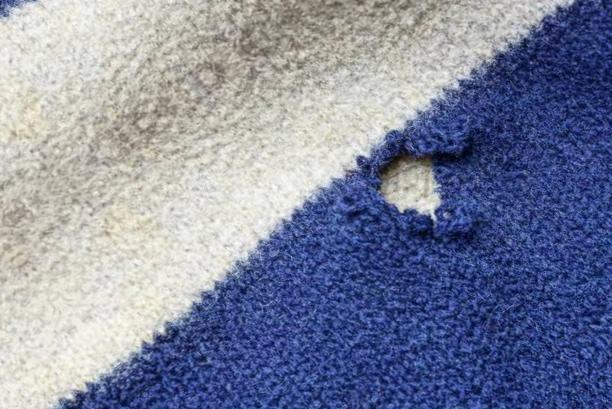hole: (371, 147, 449, 226)
